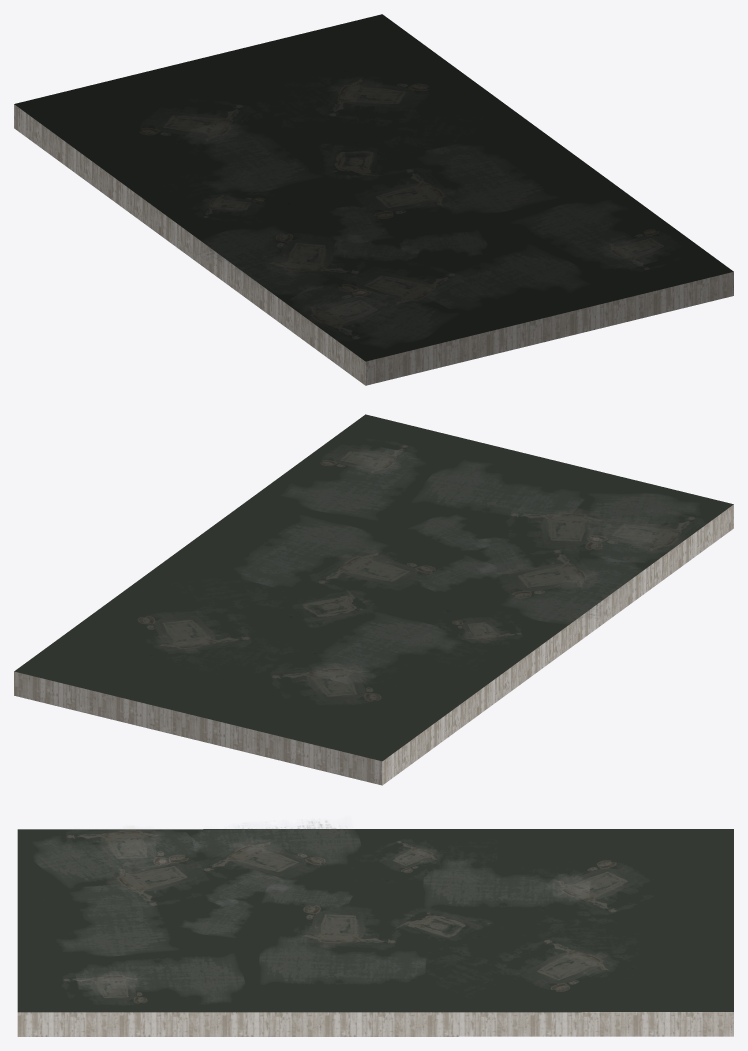
Rendered from Floor_a1b6d495.obj.
3 views of the same model, one above another, from view 1: azimuth 30°, elevation 25°; view 2: azimuth 150°, elevation 25°; view 3: azimuth 270°, elevation 25° (orthographic).
Parts seen in each view (by area): view 1: mesh_e71def9d, Decals_1_a7a17019; view 2: mesh_e71def9d, Decals_1_a7a17019; view 3: mesh_e71def9d, Decals_1_a7a17019.
Part boxes in pixels (left/top/right/bottom): mesh_e71def9d: left=14, top=14, right=733, bottom=385; Decals_1_a7a17019: left=140, top=71, right=663, bottom=344; mesh_e71def9d: left=14, top=414, right=733, bottom=785; Decals_1_a7a17019: left=138, top=445, right=694, bottom=701; mesh_e71def9d: left=17, top=829, right=733, bottom=1036; Decals_1_a7a17019: left=38, top=821, right=633, bottom=1003.
Size of the model in its own units: 4.48 by 0.2691 by 6.88.
